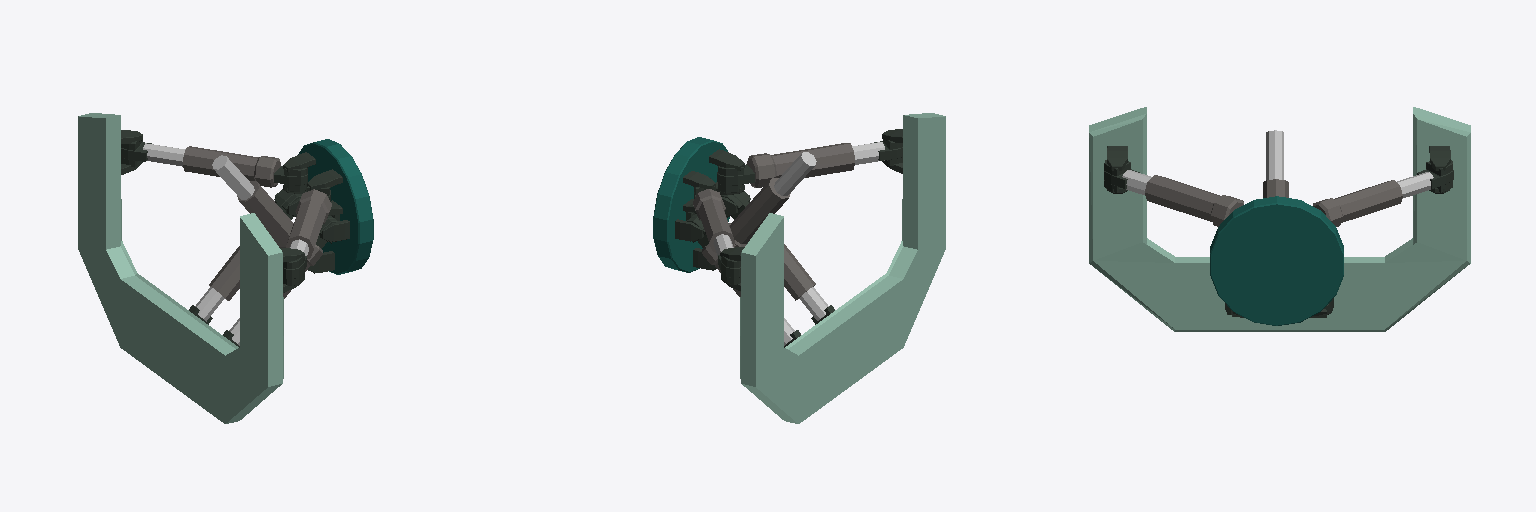
File: r-sholder.obj
3 renders of one model, left to right at view 1: azimuth 30°, elevation 25°; view 2: azimuth 150°, elevation 25°; view 3: azimuth 270°, elevation 25°, orthographic.
Parts seen in each view (by area): view 1: r-sholder.obj; view 2: r-sholder.obj; view 3: r-sholder.obj.
Boxes of the visible parts, x1,y1,x2,y2 form: r-sholder.obj: [78, 113, 373, 423]; r-sholder.obj: [653, 113, 945, 423]; r-sholder.obj: [1089, 107, 1470, 331].
Size of the model in its own units: 0.1698 by 0.2143 by 0.3372.